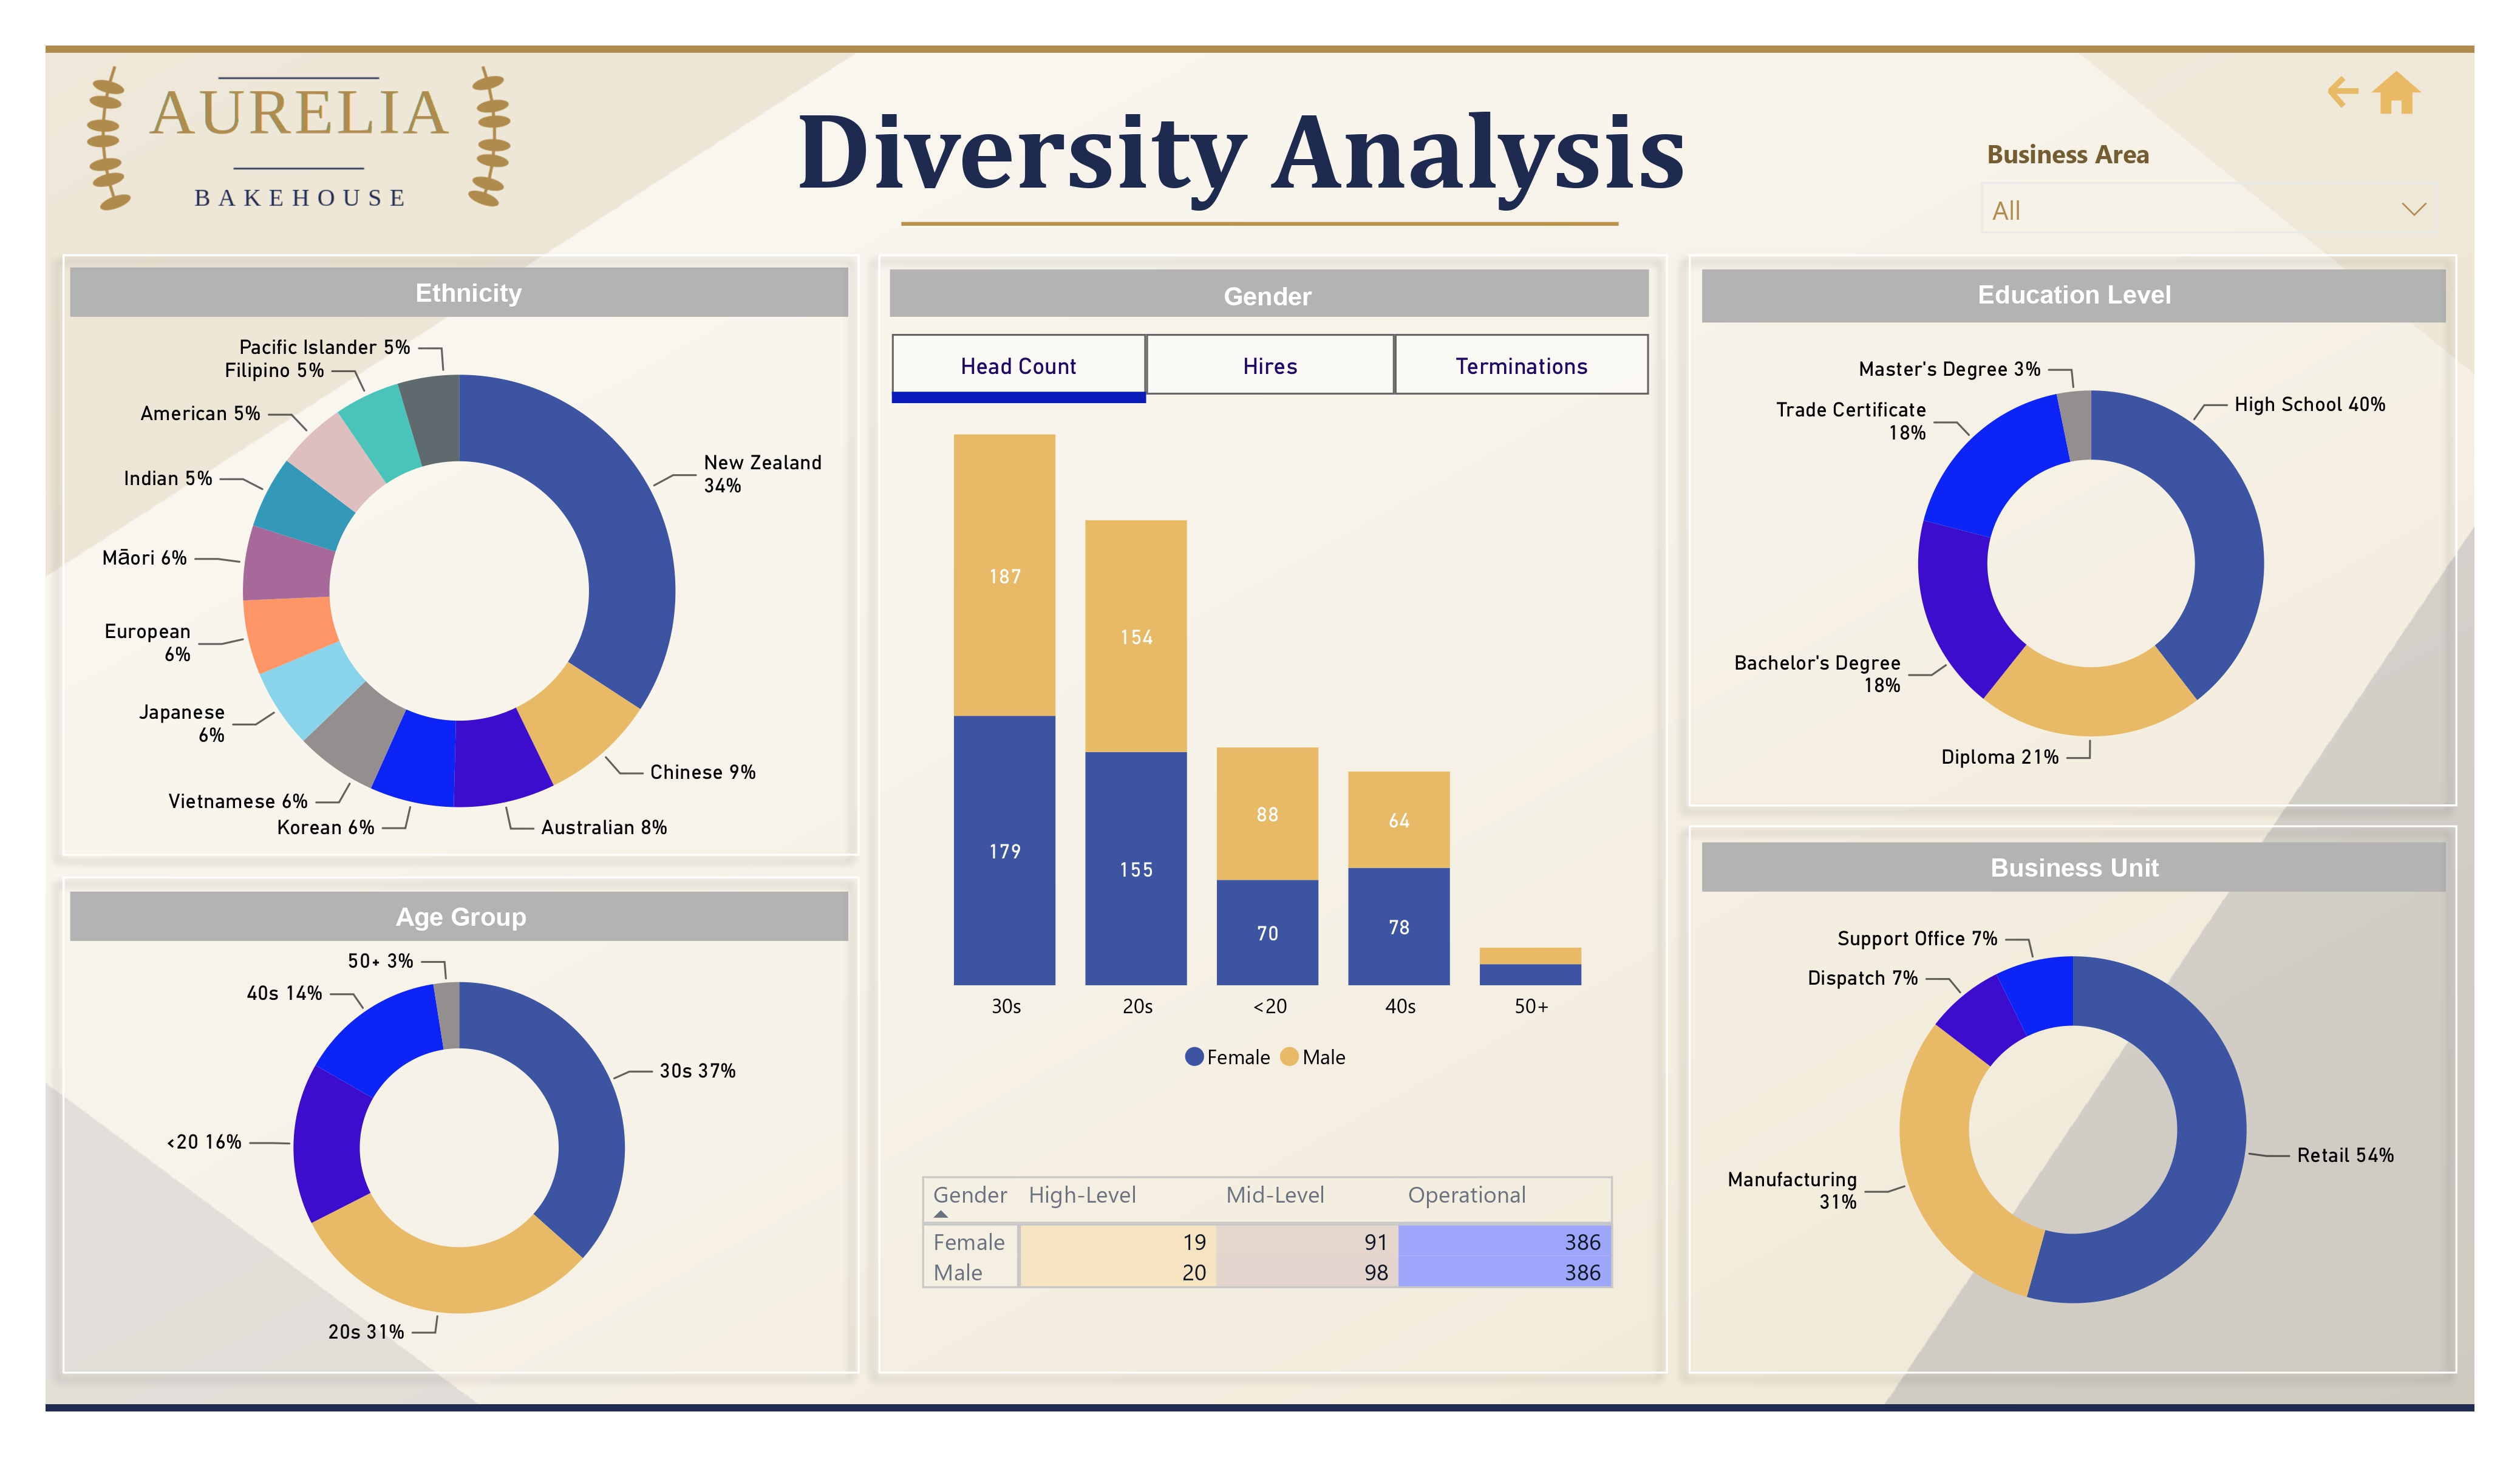

The page's visual inventory and layout, read from the dashboard file:
{"tool":"powerbi","page":{"name":"Diversity","canvas":[1280,720],"ordinal":3},"visuals":[{"type":"shape","box":[430,101.1,433.6,608.3],"z":0},{"type":"shape","box":[445.1,117.6,399.9,25.6],"z":0,"group":"g6"},{"type":"shape","box":[873.1,118.9,391.7,27.1],"z":0,"group":"g3"},{"type":"shape","box":[872.7,420.3,391.7,25.2],"z":0,"group":"g4"},{"type":"shape","box":[12.6,446.4,410.1,25.2],"z":0,"group":"g5"},{"type":"slicer","fields":{"Values":["BusinessUnits.BusinessArea"]},"box":[1010,43.4,260.7,63.8],"z":1000},{"type":"shape","box":[12.6,117.7,410.1,25.3],"z":1000,"group":"g2"},{"type":"image","box":[0,2.9,263.3,93.6],"z":2000},{"type":"textbox","title":"Diversity Analysis","box":[408.6,21.3,462.9,72.7],"z":3000},{"type":"group","id":"g1","title":"Group 1","box":[12.6,444.1,410.2,257],"z":4000},{"type":"donutChart","title":"Education Level","fields":{"Y":["CountNonNull(EmployeeDetails.EmployeeID)"],"Category":["EmployeeDetails.EducationalLevel"]},"box":[882.4,146.4,391.8,254.1],"z":5000},{"type":"donutChart","title":"Ethnicity","fields":{"Y":["CountNonNull(EmployeeDetails.EmployeeID)"],"Category":["EmployeeDetails.Ethnicity"]},"box":[12.6,120.2,410,335],"z":6000,"group":"g2"},{"type":"donutChart","title":"Business Unit","fields":{"Y":["CountNonNull(EmployeeDetails.EmployeeID)"],"Category":["BusinessUnits.BusinessUnit"]},"box":[872.7,444.1,391.8,255],"z":6000},{"type":"group","id":"g2","title":"Group 2","box":[12.6,115.4,410.2,339.4],"z":7000},{"type":"donutChart","title":"Age Group","fields":{"Y":["CountNonNull(EmployeeDetails.EmployeeID)"],"Category":["EmployeeDetails.AgeGroup"]},"box":[12.6,461.5,410,240],"z":7000,"group":"g1"},{"type":"group","id":"g3","title":"Group 4","box":[873.1,116.4,391.2,31],"z":8000},{"type":"group","id":"g4","title":"Group 4","box":[872.7,418,391.5,29],"z":9000},{"type":"shape","box":[0,100.8,438.3,335.5],"z":10000},{"type":"shape","box":[0,428.9,437.7,280.1],"z":11000},{"type":"group","id":"g5","title":"Group 4","box":[12.6,444.1,409.9,29],"z":11000,"group":"g1"},{"type":"shape","box":[857.4,101.1,422.8,309.3],"z":12000},{"type":"textbox","box":[94.3,115.4,256.4,28.9],"z":12000,"group":"g2"},{"type":"shape","box":[857.2,402.4,422.8,306.4],"z":13000},{"type":"textbox","box":[947.3,116.4,244.9,31],"z":16000,"group":"g3"},{"type":"group","id":"g6","title":"Group 4","box":[445.1,117.1,399.9,30.8],"z":16000},{"type":"textbox","box":[522,117.1,244.5,30.8],"z":16000,"group":"g6"},{"type":"textbox","box":[946.9,418,244.9,28.8],"z":16000,"group":"g4"},{"type":"textbox","box":[90.3,444.1,256.5,28.8],"z":16000,"group":"g5"},{"type":"columnChart","title":"Head Count Graph","fields":{"Category":["EmployeeDetails.AgeGroup"],"Y":["CountNonNull(EmployeeDetails.EmployeeID)"],"Series":["EmployeeDetails.Gender"]},"box":[445.8,191.1,398.6,360],"z":17000},{"type":"actionButton","title":"[Button] Head Count","box":[446,151.5,134.2,32.1],"z":18000},{"type":"actionButton","title":"[Button] Hires","box":[580.2,151.5,130.3,32.1],"z":19000},{"type":"actionButton","title":"[Button] Terminations","box":[710.6,151.5,134.2,32.1],"z":20000},{"type":"shape","title":"[Bar] Head Count","box":[446,169.4,133.9,32.8],"z":21000},{"type":"actionButton","box":[1198.8,8.9,24.8,30.1],"z":24000},{"type":"image","box":[1210.3,0,56.7,49.7],"z":25000},{"type":"pivotTable","title":"[Table] Head Count","fields":{"Values":["CountNonNull(EmployeeDetails.EmployeeID)"],"Rows":["EmployeeDetails.Gender"],"Columns":["EmploymentDetails.OrgLevel"]},"box":[456.3,576.4,376.6,124.9],"z":26000}]}

Visuals, with their boxes on the page's 1280x720 design canvas (x1, y1, x2, y2). These are canvas units, not pixel positions in the 2520x1457 screenshot, which may show the page scaled, cropped or inside an application window:
shape: (430, 101, 864, 709)
shape: (445, 118, 845, 143)
shape: (873, 119, 1265, 146)
shape: (873, 420, 1264, 446)
shape: (13, 446, 423, 472)
slicer - BusinessUnits.BusinessArea: (1010, 43, 1271, 107)
shape: (13, 118, 423, 143)
image: (0, 3, 263, 96)
"Diversity Analysis" textbox: (409, 21, 872, 94)
"Group 1" group: (13, 444, 423, 701)
"Education Level" donutChart: (882, 146, 1274, 400)
"Ethnicity" donutChart: (13, 120, 423, 455)
"Business Unit" donutChart: (873, 444, 1264, 699)
"Group 2" group: (13, 115, 423, 455)
"Age Group" donutChart: (13, 462, 423, 702)
"Group 4" group: (873, 116, 1264, 147)
"Group 4" group: (873, 418, 1264, 447)
shape: (0, 101, 438, 436)
shape: (0, 429, 438, 709)
"Group 4" group: (13, 444, 422, 473)
shape: (857, 101, 1280, 410)
textbox: (94, 115, 351, 144)
shape: (857, 402, 1280, 709)
textbox: (947, 116, 1192, 147)
"Group 4" group: (445, 117, 845, 148)
textbox: (522, 117, 766, 148)
textbox: (947, 418, 1192, 447)
textbox: (90, 444, 347, 473)
"Head Count Graph" columnChart: (446, 191, 844, 551)
"[Button] Head Count" actionButton: (446, 152, 580, 184)
"[Button] Hires" actionButton: (580, 152, 710, 184)
"[Button] Terminations" actionButton: (711, 152, 845, 184)
"[Bar] Head Count" shape: (446, 169, 580, 202)
actionButton: (1199, 9, 1224, 39)
image: (1210, 0, 1267, 50)
"[Table] Head Count" pivotTable: (456, 576, 833, 701)
